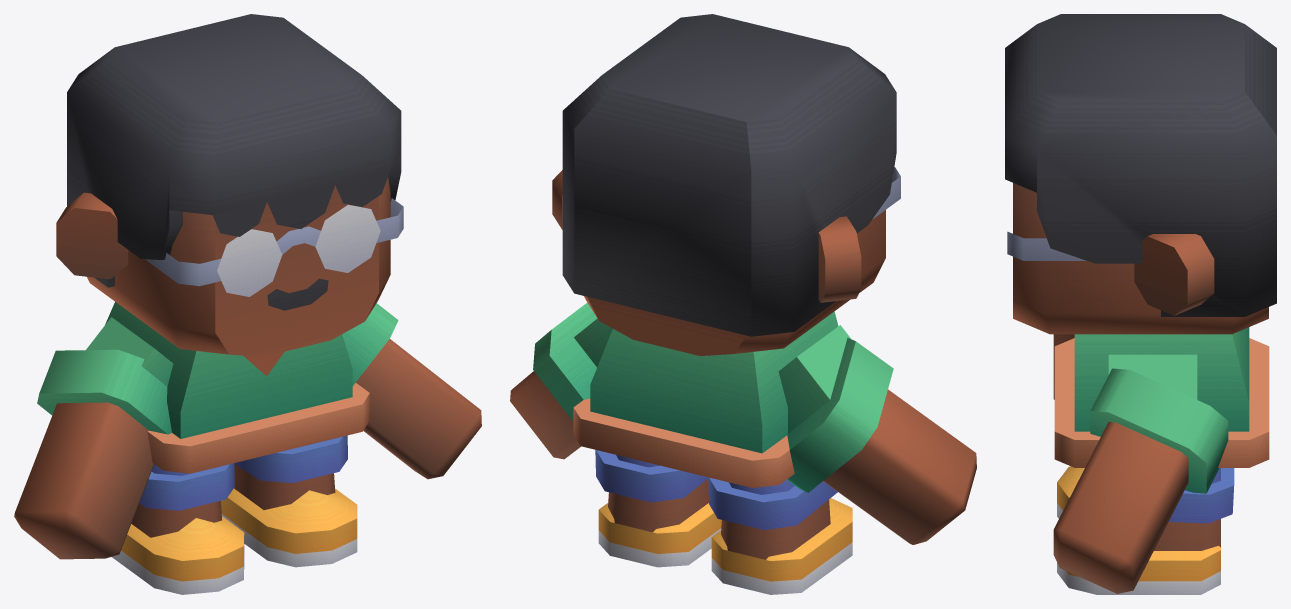
The model's file is character-male-a.glb.
3 renders of one model, left to right at view 1: azimuth 30°, elevation 25°; view 2: azimuth 150°, elevation 25°; view 3: azimuth 270°, elevation 25°, orthographic.
Visible parts, largest first — view 1: body-mesh; view 2: body-mesh; view 3: body-mesh.
Boxes of the visible parts, x1,y1,x2,y2 form: body-mesh: (14, 14, 481, 594); body-mesh: (510, 14, 976, 594); body-mesh: (1005, 14, 1276, 594).
Size of the model in its own units: 1.59 by 1.61 by 0.816.
Materials: 1 (1 with a texture image).
